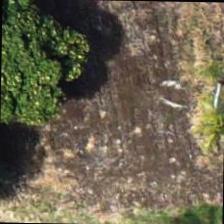Kelapa_Sawit: (166, 69, 223, 162)
